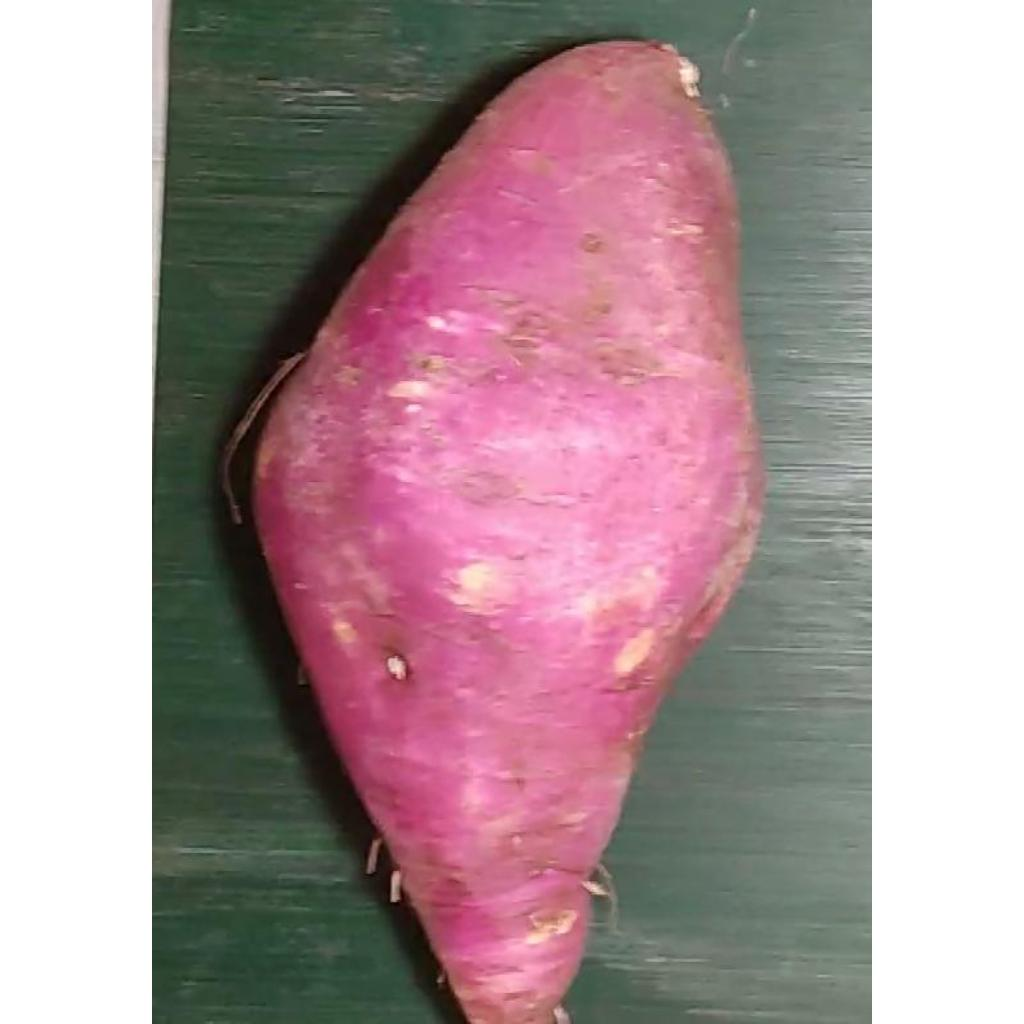Sweet Potato: (251, 40, 768, 1015)
